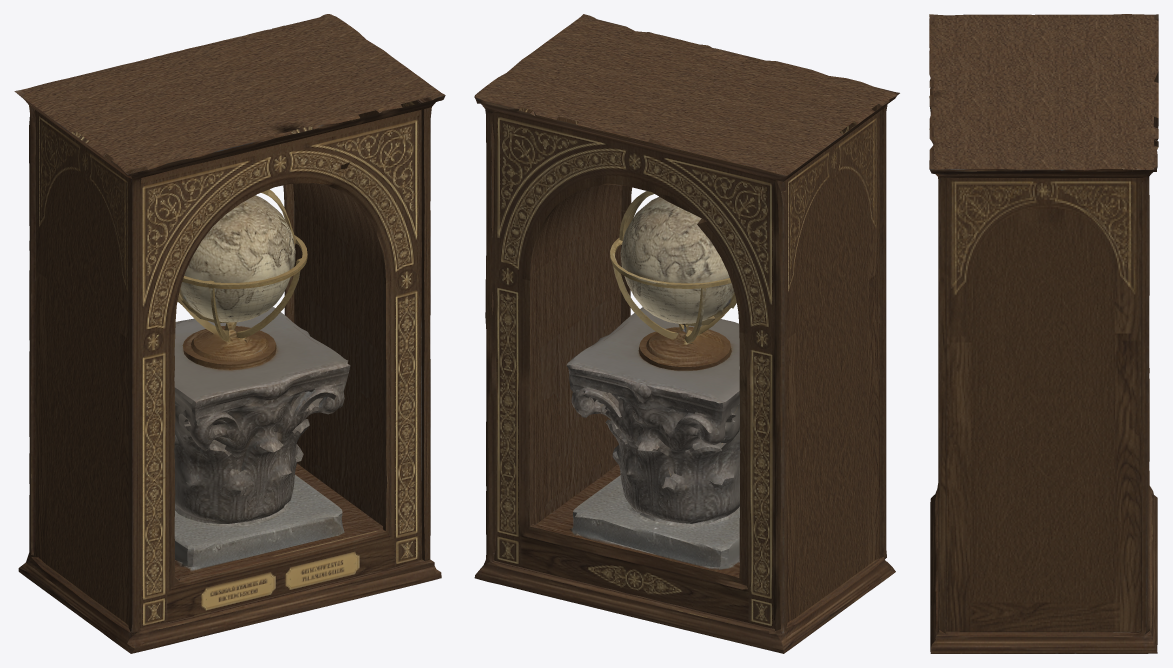
Rendered from globus.glb.
3 renders of one model, left to right at view 1: azimuth 30°, elevation 25°; view 2: azimuth 150°, elevation 25°; view 3: azimuth 270°, elevation 25°, orthographic.
Parts seen in each view (by area): view 1: Mesh_0; view 2: Mesh_0; view 3: Mesh_0.
Boxes of the visible parts, x1,y1,x2,y2 form: Mesh_0: (14, 14, 445, 653); Mesh_0: (474, 14, 899, 653); Mesh_0: (929, 14, 1158, 653).
Size of the model in its own units: 1.31 by 1.9 by 0.8128.
1 material, 1 textured.
